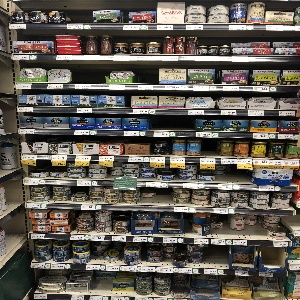void: (209, 211, 267, 235), (70, 61, 110, 85), (214, 163, 252, 184), (148, 115, 197, 131), (137, 187, 176, 205), (133, 61, 160, 85), (260, 247, 288, 270), (90, 269, 112, 296), (206, 244, 228, 270), (68, 1, 93, 23)
